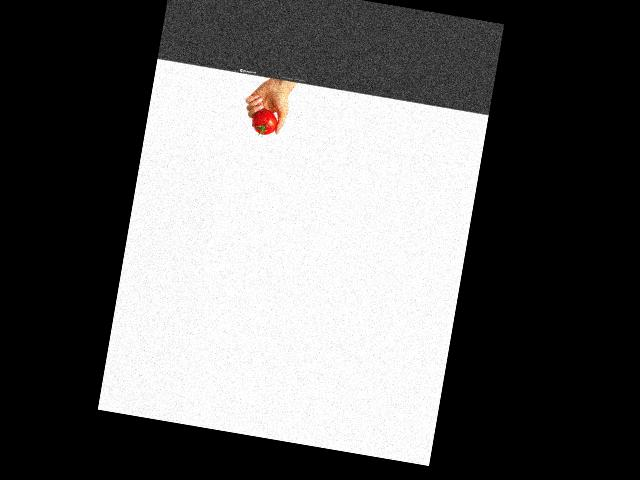tomato: (251, 107, 279, 137)
